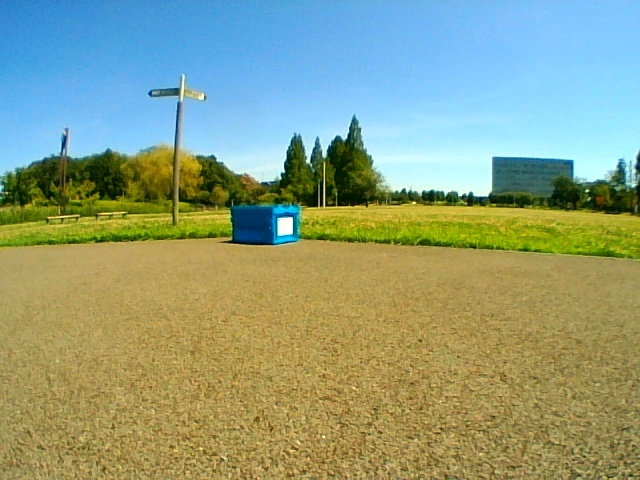blue_box: (232, 205, 298, 243)
tag: (277, 217, 293, 235)
